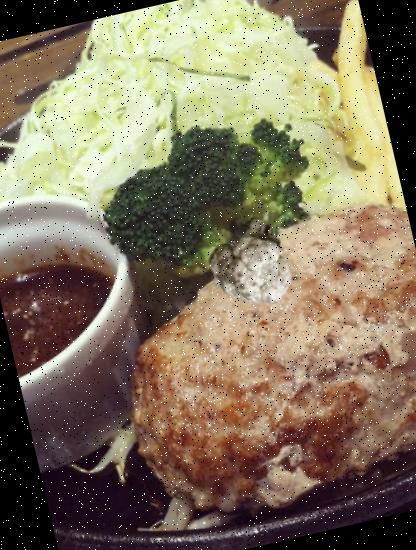Cauliflower: (198, 207, 305, 314)
